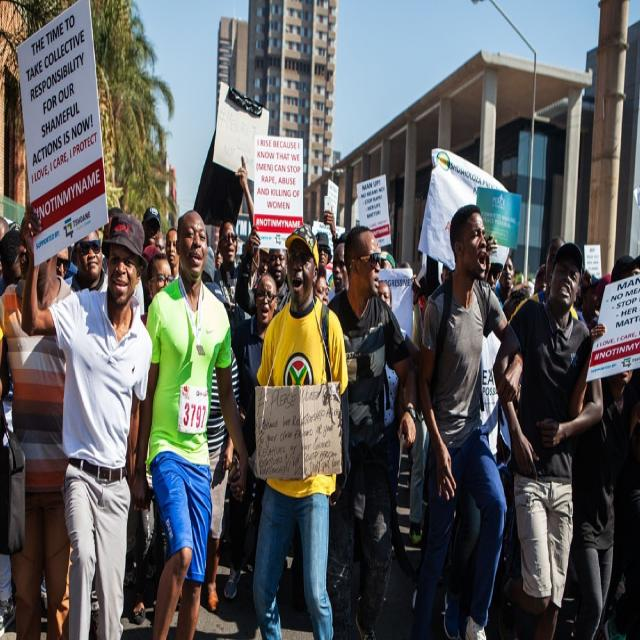body: (18, 200, 154, 639), (129, 208, 251, 640), (410, 201, 526, 639), (488, 238, 607, 639), (242, 222, 354, 639), (324, 223, 420, 640), (376, 241, 455, 638), (0, 207, 70, 639), (580, 214, 639, 639), (483, 221, 538, 639), (222, 270, 280, 603), (0, 204, 42, 639), (130, 250, 175, 628), (234, 223, 292, 319), (135, 206, 180, 296), (316, 222, 352, 304), (212, 219, 243, 305), (69, 228, 108, 292), (538, 221, 563, 296), (102, 196, 121, 289), (54, 234, 78, 292), (203, 222, 223, 286), (570, 298, 578, 324)
